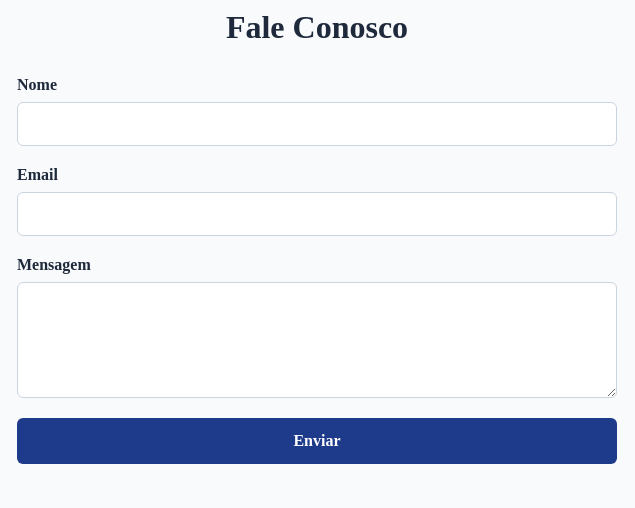
Test case: FormContato Component › Cenário 3 — displays message length validation error when message is short (< 10 chars)
This screenshot has width=635, height=508.
// Fill valid name, valid email, short message
Type "Kauã Thierry" into the field labelled "Nome".
click(317, 124); type("Kauã Thierry")  # box [17, 102, 617, 146]
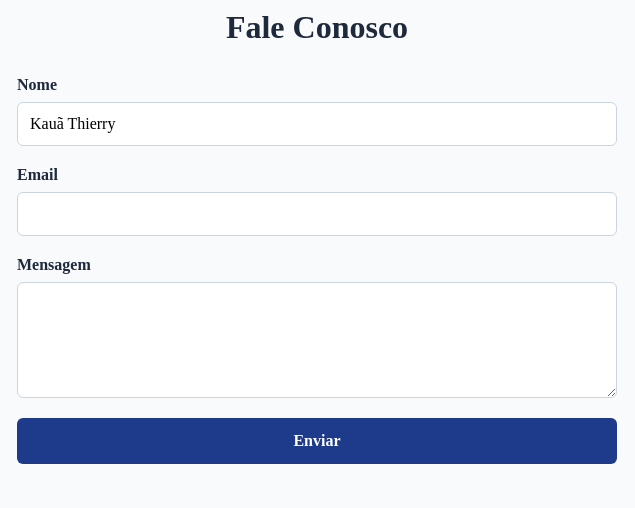
Type "kaua@thierry.com" into the field labelled "Email".
click(317, 214); type("kaua@thierry.com")  # box [17, 192, 617, 236]
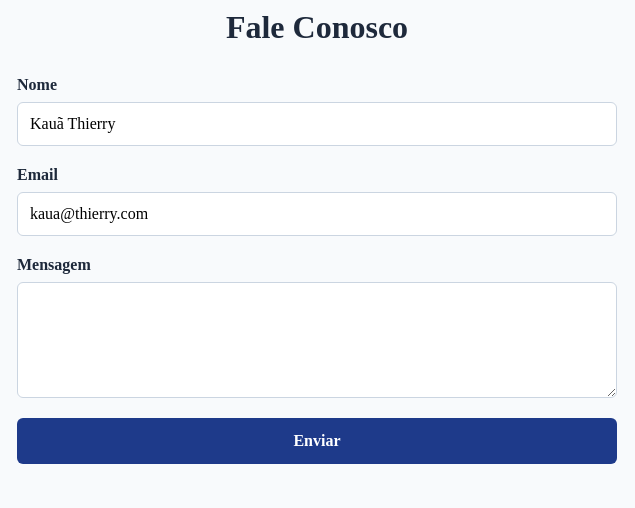
Type "Curta" into the text box labelled "Mensagem".
click(317, 340); type("Curta")  # box [17, 282, 617, 398]
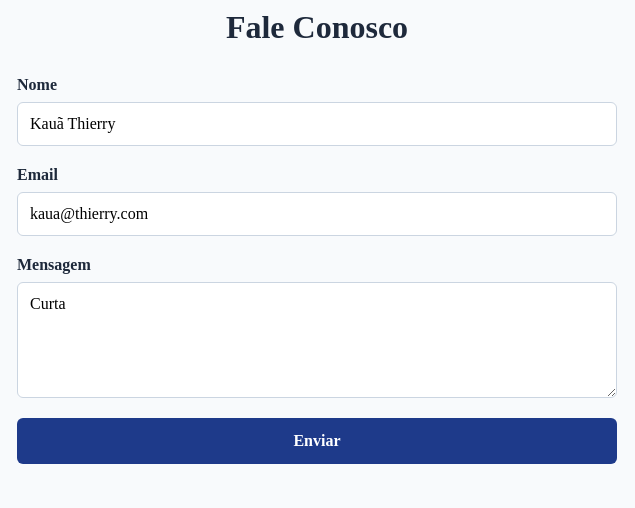
Click the button "Enviar".
click(317, 441)  # box [17, 418, 617, 464]
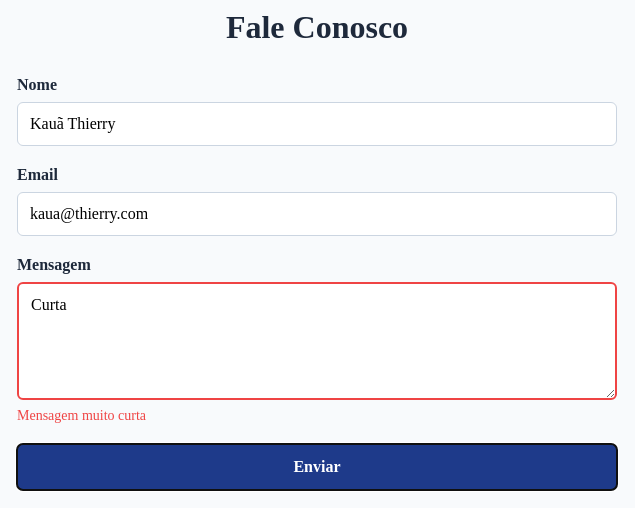
Result: the text "Mensagem muito curta" is shown at [17, 408, 146, 423]
